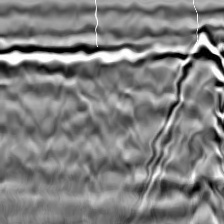Utility: (149, 26, 224, 186)
